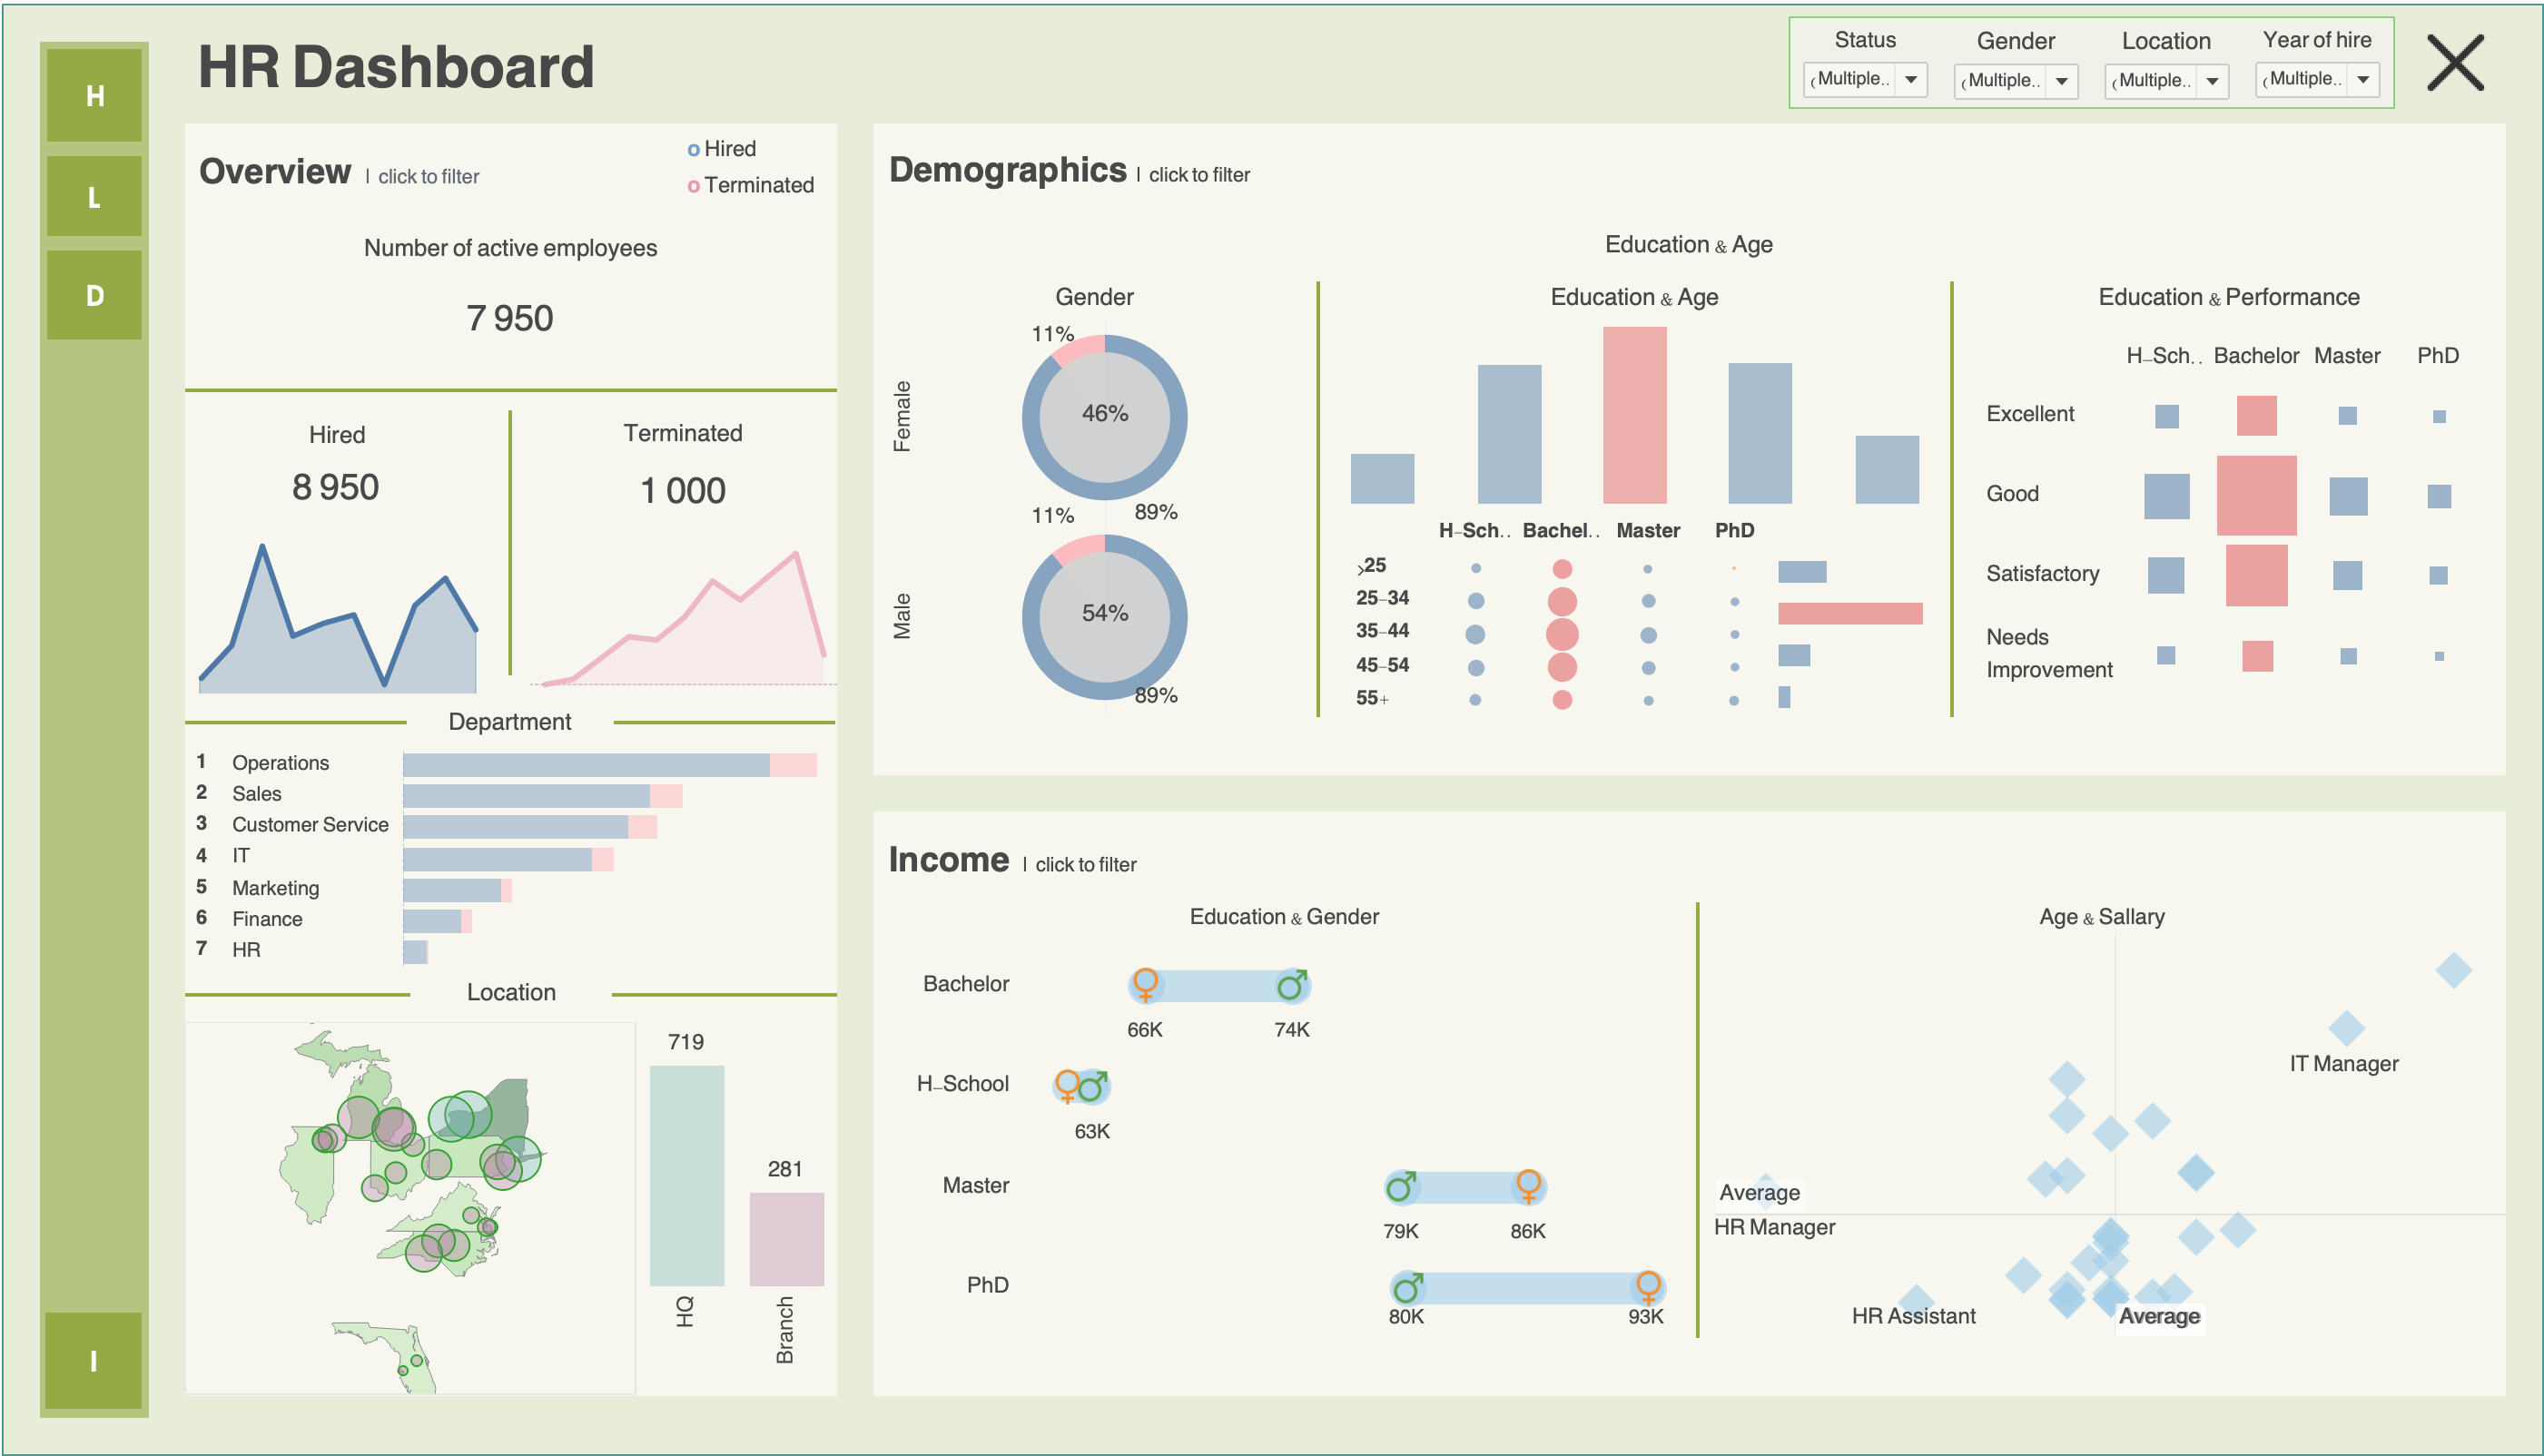

The dashboard page shown, as its layout file describes it:
{"tool":"tableau","page":{"name":"HR Summary","canvas":[1400,800],"ordinal":1},"visuals":[{"type":"text","box":[101,1,685,65]},{"type":"blank","box":[786,1,613,65]},{"type":"blank","box":[90,6,1303,310]},{"type":"filter","title":"GENDER SALLARY","param":"[federated.1k5qmlu1r5rs811dibhls02fr3mr].[none:Calculation_1686457389460127744:n","box":[985,8,83,49]},{"type":"filter","title":"GENDER SALLARY","param":"[federated.1k5qmlu1r5rs811dibhls02fr3mr].[none:gender:nk]","box":[1068,8,83,49]},{"type":"filter","title":"GENDER SALLARY","param":"[federated.1k5qmlu1r5rs811dibhls02fr3mr].[none:Calculation_681591722242408450:nk","box":[1151,8,83,49]},{"type":"filter","title":"GENDER SALLARY","param":"[federated.1k5qmlu1r5rs811dibhls02fr3mr].[yr:hiredate:ok]","box":[1234,8,83,49]},{"type":"dashboard-object","box":[1326,9,52,47]},{"type":"dashboard-object","box":[21,21,60,59]},{"type":"text","box":[101,66,359,52]},{"type":"text","box":[480,66,899,49]},{"type":"text","box":[375,72,80,39]},{"type":"dashboard-object","box":[21,80,60,52]},{"type":"text","box":[480,115,899,38]},{"type":"text","box":[101,118,359,32]},{"type":"dashboard-object","box":[21,132,60,57]},{"type":"worksheet","title":"BAN ACTIVE","mark":"Automatic","box":[101,150,359,62]},{"type":"text","box":[480,153,244,20]},{"type":"blank","box":[724,153,2,240]},{"type":"text","box":[726,153,347,20]},{"type":"blank","box":[1073,153,2,240]},{"type":"text","box":[1075,153,303.9,20]},{"type":"worksheet","title":"GENDER","mark":"Pie","rows":["gender"],"cols":["Calculation_1779414500558700547","Calculation_1779414500558848005"],"box":[480,173,244,220]},{"type":"worksheet","title":"AGE GROUPS","mark":"Bar","rows":["Calculation_572660906245742592"],"cols":["Calculation_715579825694212096"],"box":[726,173,347,103]},{"type":"worksheet","title":"EDUCATION VS PERFORMANCE (2)","mark":"Square","rows":["performance_rating"],"cols":["education_level"],"box":[1075,173,303.9,220]},{"type":"blank","box":[101,212,359,2]},{"type":"text","box":[101,214,178,30]},{"type":"blank","box":[279,214,2,166]},{"type":"text","box":[281,214,178.9,30]},{"type":"worksheet","title":"BAN HIRED","mark":"Automatic","box":[101,244,178,49]},{"type":"worksheet","title":"BAN TERMINATED","mark":"Automatic","box":[281,244,178.9,53]},{"type":"worksheet","title":"AGE VS EDUCATION","mark":"Circle","rows":["Calculation_715579825694212096"],"cols":["education_level"],"box":[726,276,252,117]},{"type":"worksheet","title":"EDUCATION LIST","mark":"Bar","rows":["education_level"],"cols":["Calculation_572660906245742592"],"box":[978,276,95,117]},{"type":"worksheet","title":"HIRED BY YEAR","mark":"Automatic","rows":["Calculation_572660906245742592","Calculation_572660906245742592"],"cols":["hiredate"],"box":[101,293,178,87]},{"type":"worksheet","title":"TERMINATED BY YEAR (2)","mark":"Line","rows":["Calculation_572660906246381569","Calculation_572660906246381569"],"cols":["termdate"],"box":[281,297,178.9,83]},{"type":"text","box":[90,316,1303,197]},{"type":"blank","box":[101,380,122,31]},{"type":"text","box":[223,380,114.5,31]},{"type":"blank","box":[337.5,380,122.5,31]},{"type":"blank","box":[480,393,899,32]},{"type":"worksheet","title":"DEPARTMENT","mark":"Bar","rows":["Calculation_681591722241536001","department"],"cols":["Calculation_572660906245742592"],"box":[101,411,359,120]},{"type":"text","box":[480,445,899,50]},{"type":"text","box":[480,495,453,18]},{"type":"blank","box":[933,495,2,240]},{"type":"text","box":[935,495,444,18]},{"type":"blank","box":[90,513,1303,271]},{"type":"worksheet","title":"GENDER SALLARY","mark":"Shape","rows":["education_level"],"cols":["salary","salary"],"box":[480,513,453,222]},{"type":"worksheet","title":"AGE VS SALLARY","mark":"Shape","rows":["salary"],"cols":["Calculation_681591722254114823"],"box":[935,513,444,222]},{"type":"blank","box":[101,531,123.7,30]},{"type":"text","box":[224.7,531,111.7,30]},{"type":"blank","box":[336.3,531,123.7,30]},{"type":"worksheet","title":"MAP","mark":"Automatic","box":[101,561,249,206]},{"type":"worksheet","title":"LOCATIONS","mark":"Bar","rows":["Calculation_572660906245742592"],"cols":["Calculation_681591722242408450"],"box":[350,561,110,206]},{"type":"dashboard-object","box":[24,721,53,53]},{"type":"blank","box":[480,735,899,32]}]}

Visuals, with their boxes in screenshot pixels (x1, y1, x2, y2), scaled from the page's 1400x800 canvas onto the 2544x1456 screenshot:
text: pyautogui.locateOnScreen(183, 2, 1428, 120)
blank: pyautogui.locateOnScreen(1428, 2, 2542, 120)
blank: pyautogui.locateOnScreen(163, 11, 2531, 576)
"GENDER SALLARY" filter: pyautogui.locateOnScreen(1790, 15, 1941, 103)
"GENDER SALLARY" filter: pyautogui.locateOnScreen(1941, 15, 2092, 103)
"GENDER SALLARY" filter: pyautogui.locateOnScreen(2092, 15, 2243, 103)
"GENDER SALLARY" filter: pyautogui.locateOnScreen(2243, 15, 2393, 103)
dashboard-object: pyautogui.locateOnScreen(2410, 16, 2504, 102)
dashboard-object: pyautogui.locateOnScreen(38, 38, 147, 145)
text: pyautogui.locateOnScreen(183, 120, 836, 215)
text: pyautogui.locateOnScreen(873, 120, 2506, 210)
text: pyautogui.locateOnScreen(682, 131, 827, 202)
dashboard-object: pyautogui.locateOnScreen(38, 145, 147, 241)
text: pyautogui.locateOnScreen(873, 210, 2506, 279)
text: pyautogui.locateOnScreen(183, 215, 836, 273)
dashboard-object: pyautogui.locateOnScreen(38, 241, 147, 344)
"BAN ACTIVE" worksheet: pyautogui.locateOnScreen(183, 273, 836, 386)
text: pyautogui.locateOnScreen(873, 279, 1316, 315)
blank: pyautogui.locateOnScreen(1316, 279, 1319, 715)
text: pyautogui.locateOnScreen(1319, 279, 1950, 315)
blank: pyautogui.locateOnScreen(1950, 279, 1954, 715)
text: pyautogui.locateOnScreen(1954, 279, 2506, 315)
"GENDER" worksheet (Pie marks): pyautogui.locateOnScreen(873, 315, 1316, 715)
"AGE GROUPS" worksheet (Bar marks): pyautogui.locateOnScreen(1319, 315, 1950, 502)
"EDUCATION VS PERFORMANCE (2)" worksheet (Square marks): pyautogui.locateOnScreen(1954, 315, 2506, 715)
blank: pyautogui.locateOnScreen(183, 386, 836, 389)
text: pyautogui.locateOnScreen(183, 389, 507, 444)
blank: pyautogui.locateOnScreen(507, 389, 510, 692)
text: pyautogui.locateOnScreen(510, 389, 835, 444)
"BAN HIRED" worksheet: pyautogui.locateOnScreen(183, 444, 507, 533)
"BAN TERMINATED" worksheet: pyautogui.locateOnScreen(510, 444, 835, 540)
"AGE VS EDUCATION" worksheet (Circle marks): pyautogui.locateOnScreen(1319, 502, 1777, 715)
"EDUCATION LIST" worksheet (Bar marks): pyautogui.locateOnScreen(1777, 502, 1950, 715)
"HIRED BY YEAR" worksheet: pyautogui.locateOnScreen(183, 533, 507, 692)
"TERMINATED BY YEAR (2)" worksheet (Line marks): pyautogui.locateOnScreen(510, 540, 835, 692)
text: pyautogui.locateOnScreen(163, 576, 2531, 934)
blank: pyautogui.locateOnScreen(183, 692, 405, 748)
text: pyautogui.locateOnScreen(405, 692, 613, 748)
blank: pyautogui.locateOnScreen(613, 692, 836, 748)
blank: pyautogui.locateOnScreen(873, 715, 2506, 773)
"DEPARTMENT" worksheet (Bar marks): pyautogui.locateOnScreen(183, 748, 836, 967)
text: pyautogui.locateOnScreen(873, 810, 2506, 900)
text: pyautogui.locateOnScreen(873, 900, 1695, 934)
blank: pyautogui.locateOnScreen(1695, 900, 1699, 1338)
text: pyautogui.locateOnScreen(1699, 900, 2506, 934)
blank: pyautogui.locateOnScreen(163, 934, 2531, 1427)
"GENDER SALLARY" worksheet (Shape marks): pyautogui.locateOnScreen(873, 934, 1695, 1338)
"AGE VS SALLARY" worksheet (Shape marks): pyautogui.locateOnScreen(1699, 934, 2506, 1338)
blank: pyautogui.locateOnScreen(183, 967, 409, 1021)
text: pyautogui.locateOnScreen(409, 967, 611, 1021)
blank: pyautogui.locateOnScreen(611, 967, 836, 1021)
"MAP" worksheet: pyautogui.locateOnScreen(183, 1021, 636, 1396)
"LOCATIONS" worksheet (Bar marks): pyautogui.locateOnScreen(636, 1021, 836, 1396)
dashboard-object: pyautogui.locateOnScreen(44, 1313, 140, 1409)
blank: pyautogui.locateOnScreen(873, 1338, 2506, 1396)
